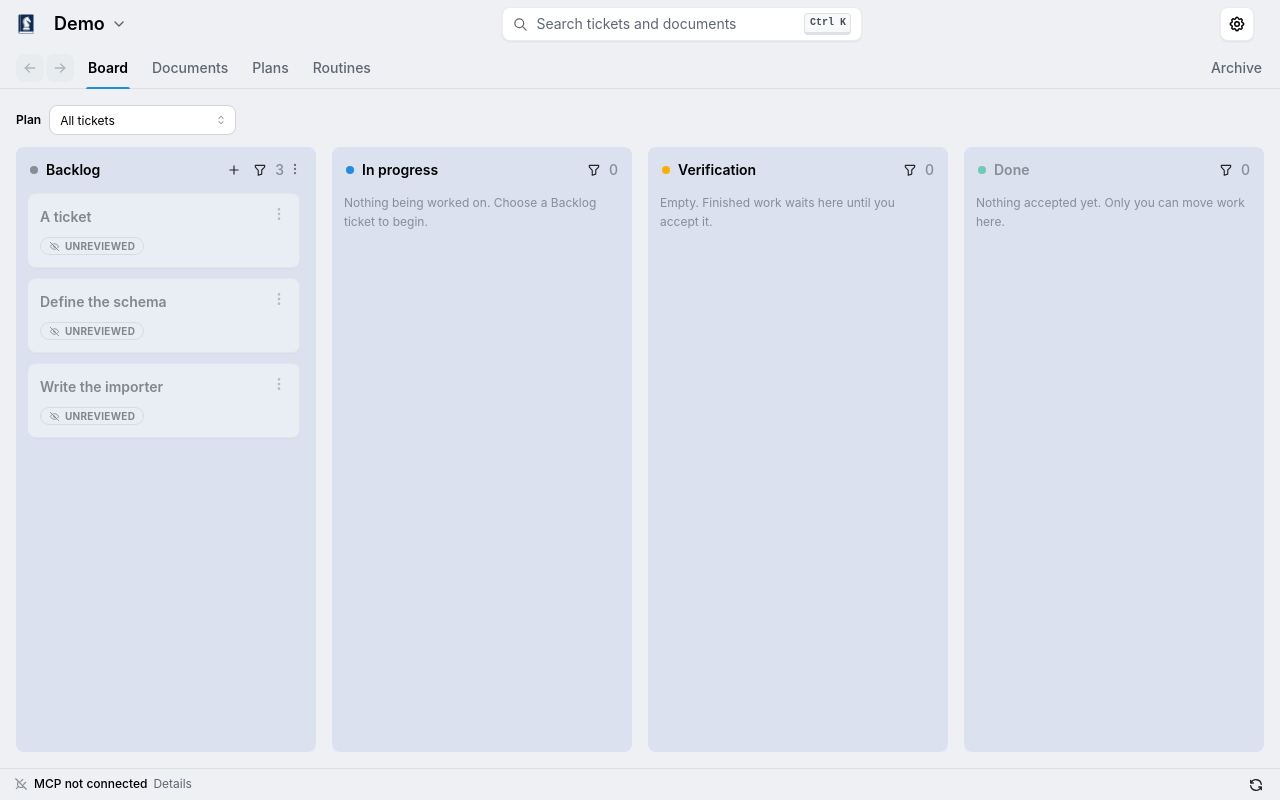
Test case: choosing prerequisites and documents › narrows the prerequisites to the titles that match what is typed
Click the text "A ticket". click: (66, 216)
box: [40,208,91,225]
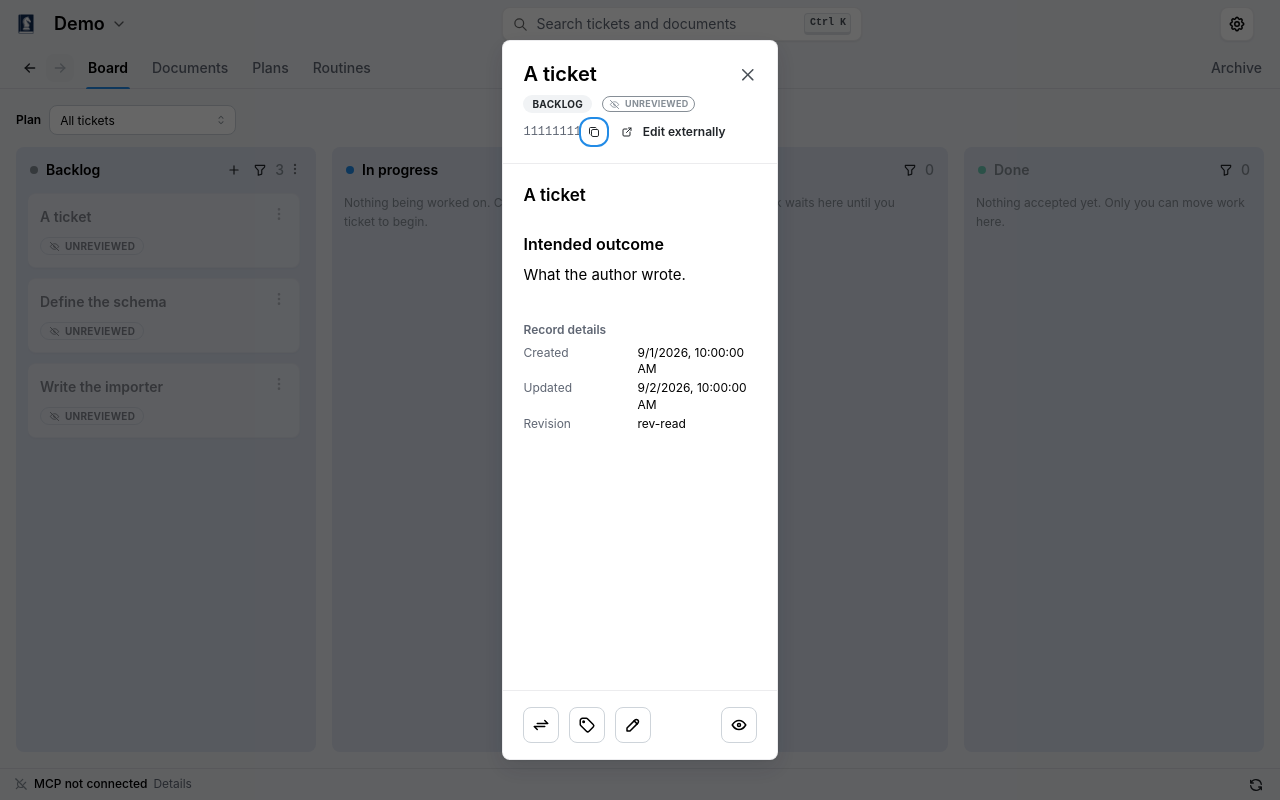
Click the button named "Edit ticket". click: (634, 725)
box: [616,707,652,743]
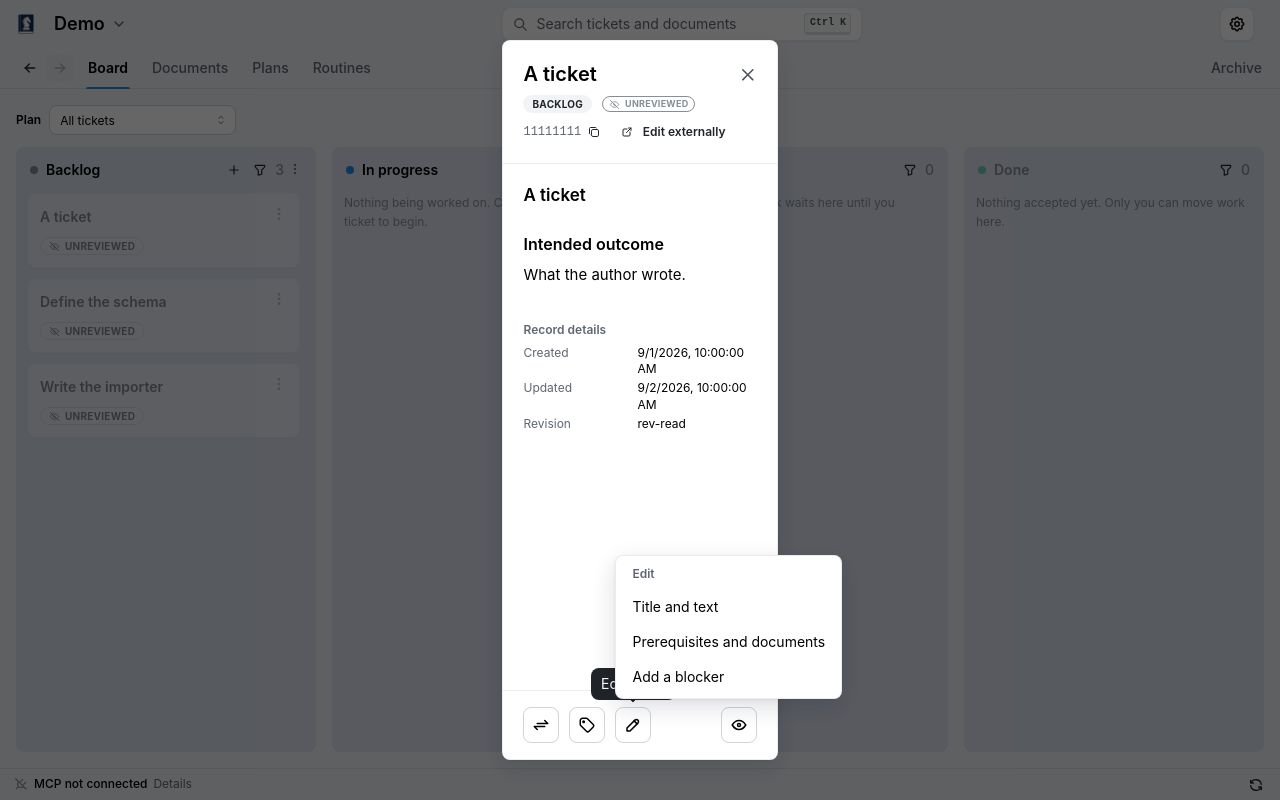
Click the menu item "Prerequisites and documents". click: (729, 642)
box: [620,624,837,659]
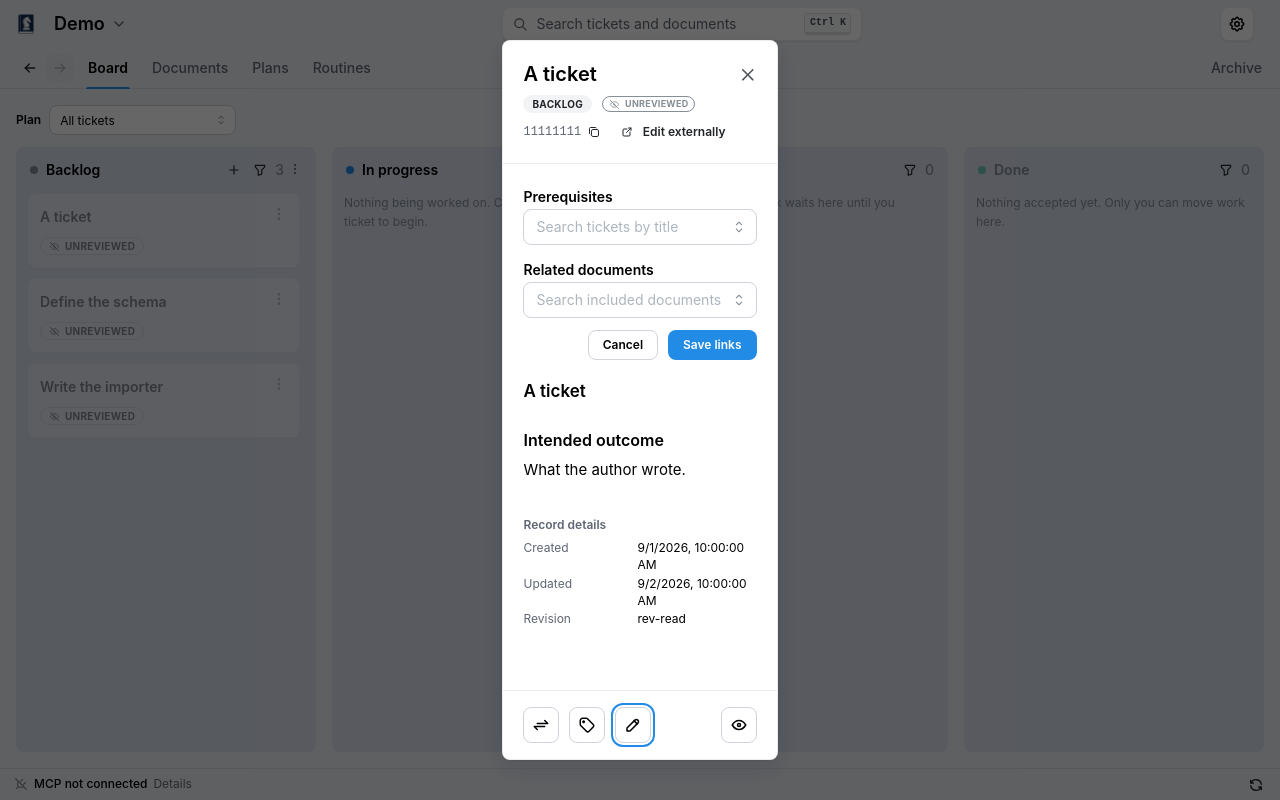
Click the dropdown labelled "Prerequisites". click: (629, 226)
box: [536,215,722,238]
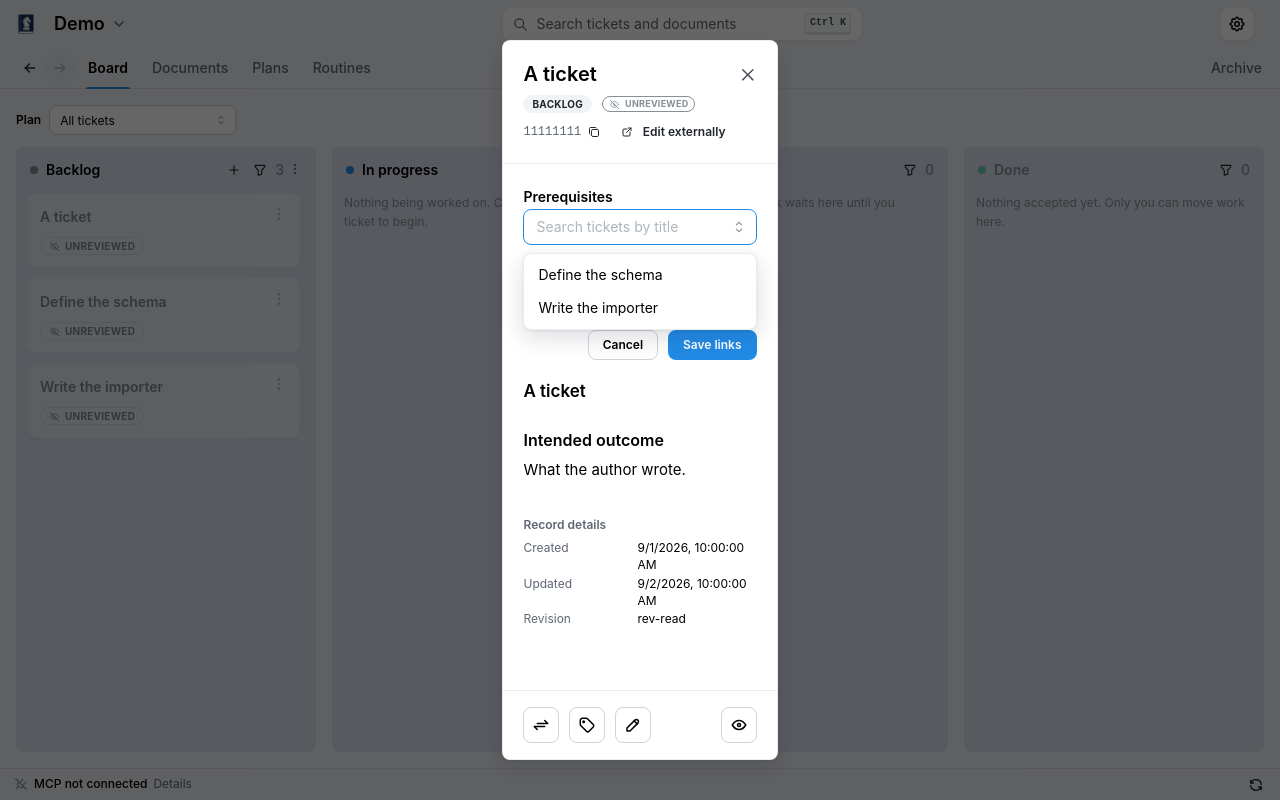
Type keys "schema"
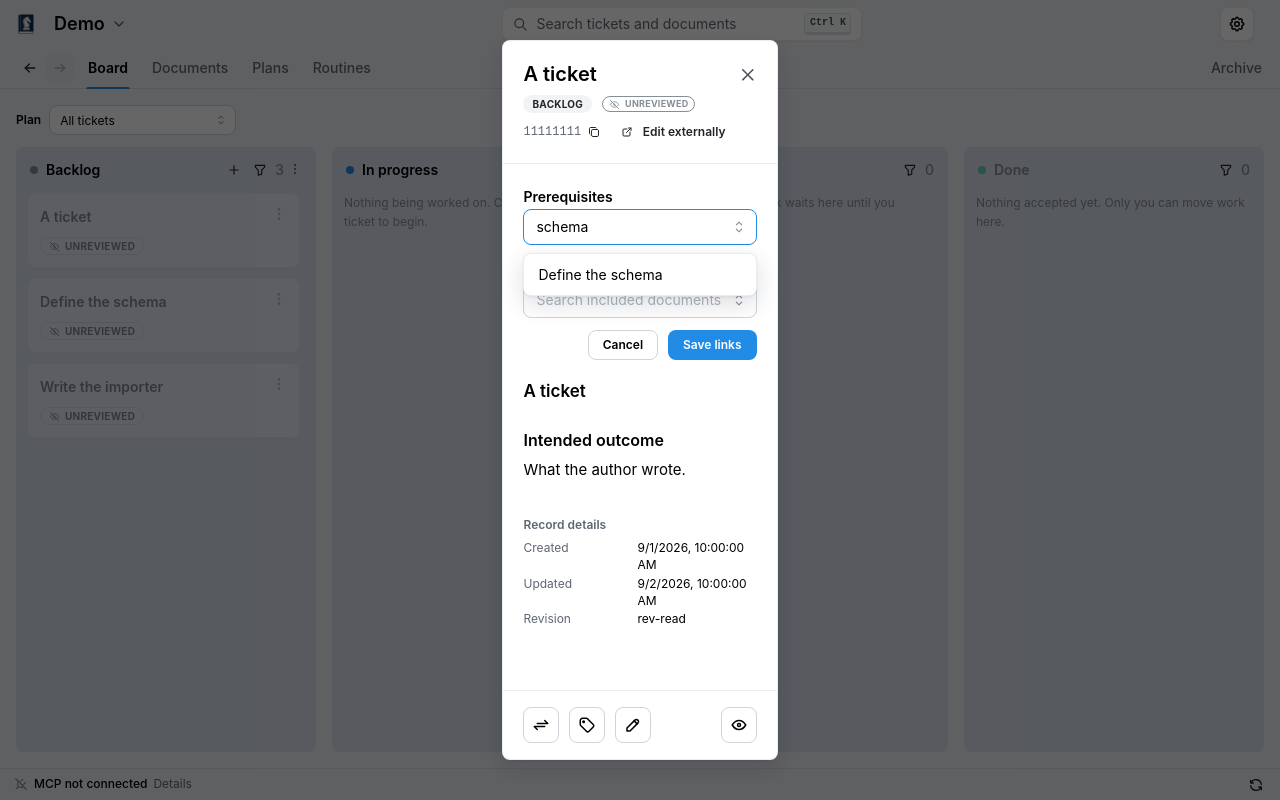
Result: the options read "Define the schema", in this order at [538,266,663,283]
